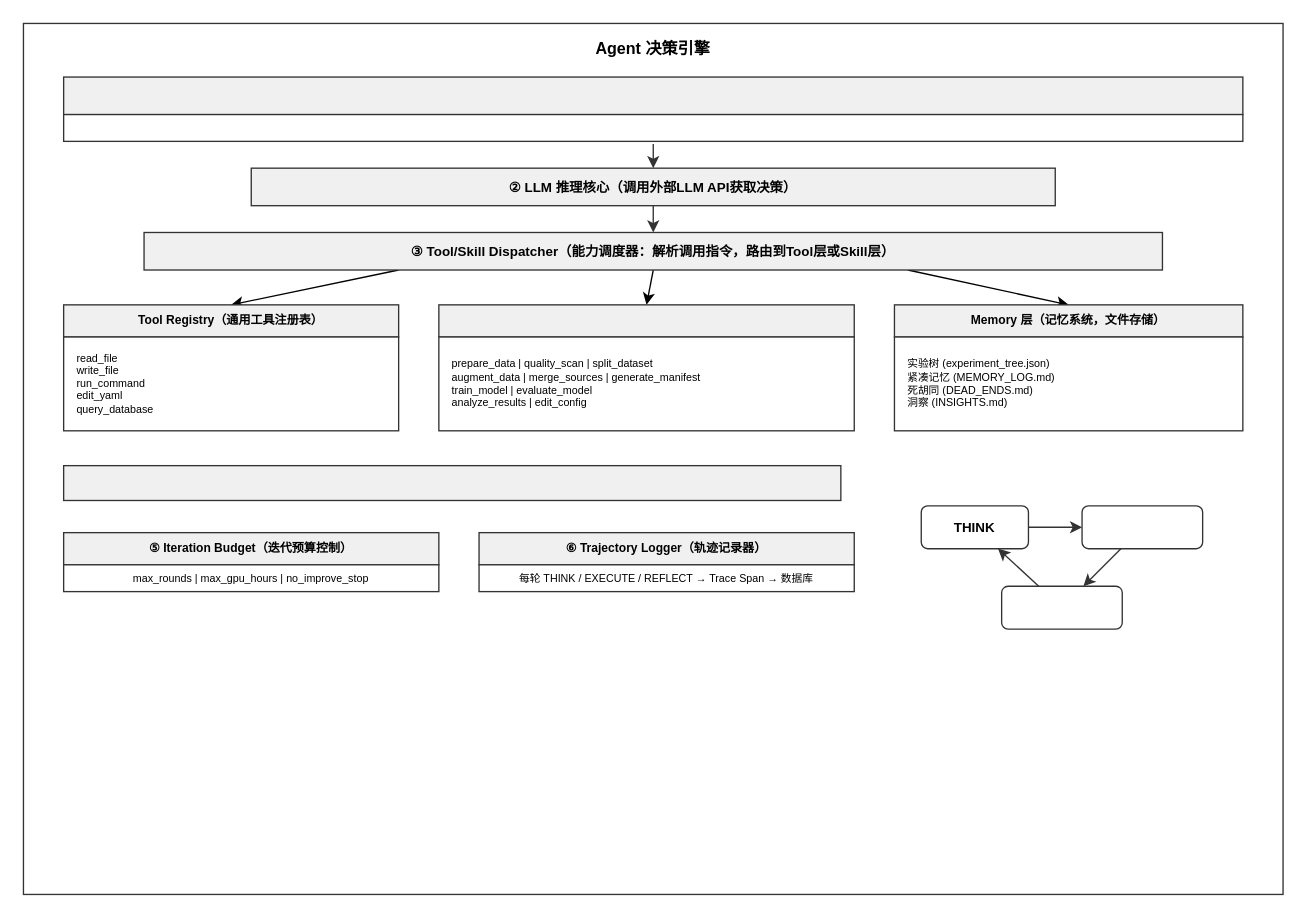
Image size: 1307x918. Some labels were removed from this diagram. The box of each missing label's shape, as (x1, y1, x2, y2) in pixels:
EXECUTE: (1081, 505, 1203, 549)
REFLECT: (1000, 585, 1122, 629)
Skill Registry（领域技能注册表）: (438, 304, 854, 337)
① Prompt Builder（动态提示词构建器）: (62, 76, 1243, 115)
④ Context Engine（上下文管理：Token计数 | 历史压缩 | 记忆compact | 窗口管理）: (62, 464, 841, 500)
组装内容：身份定义 + ASR领域知识 + 实验树摘要 + 紧凑记忆 + Skill索引 + 约束规则: (62, 113, 1243, 141)
